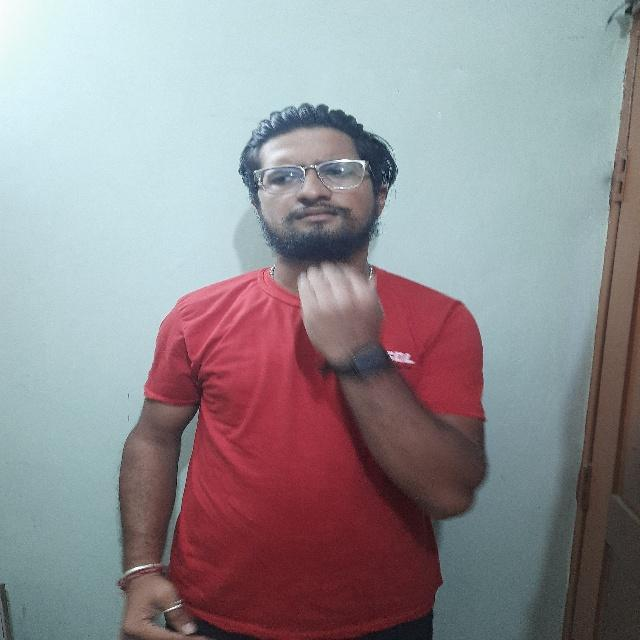Chin Flick: (242, 107, 399, 363)
